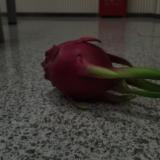pitaya: (43, 38, 160, 104)
